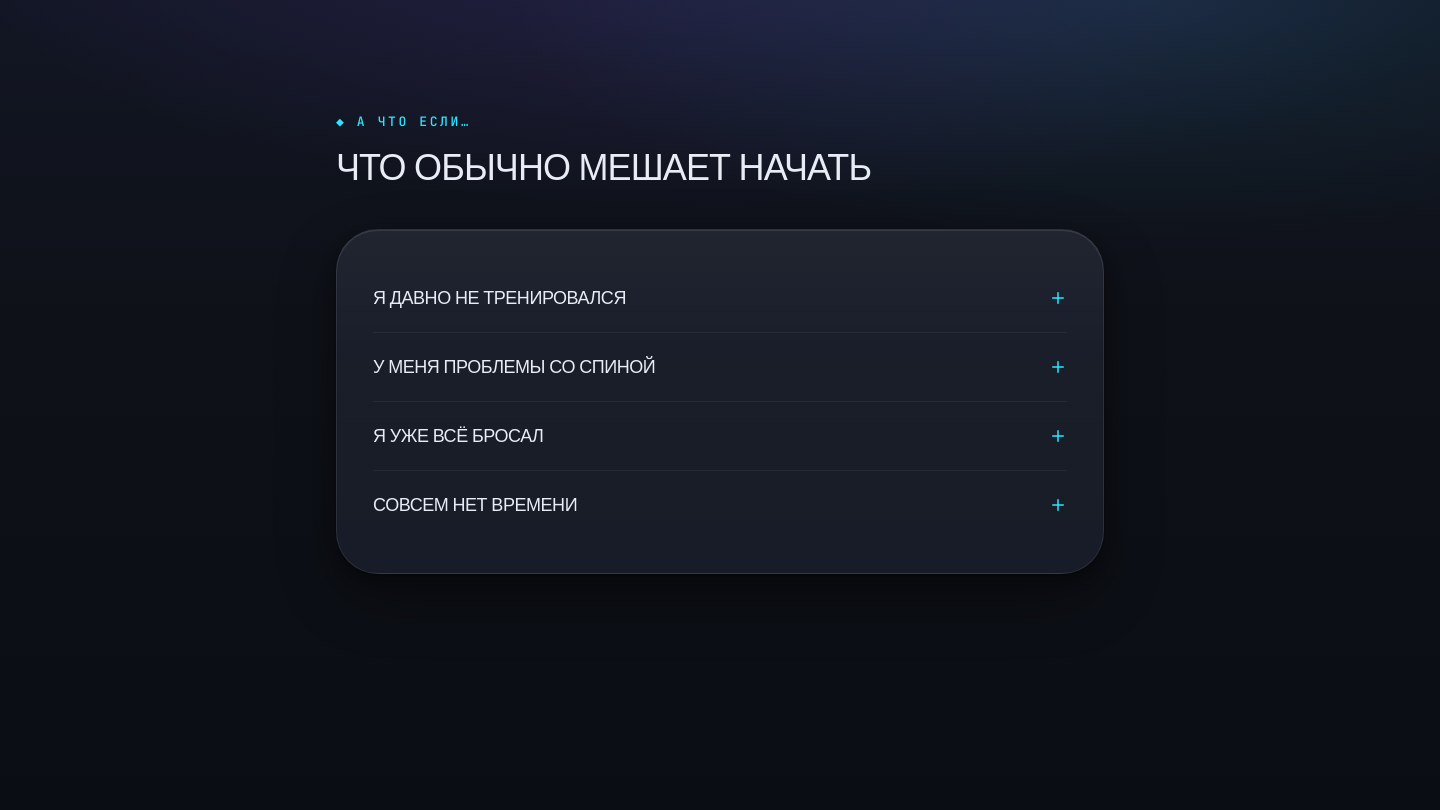
Objections accordion (§15.5) › toggles to another item, collapses the previous
Click the button "Я давно не тренировался" at (499, 298), box [373,264,1067,332]
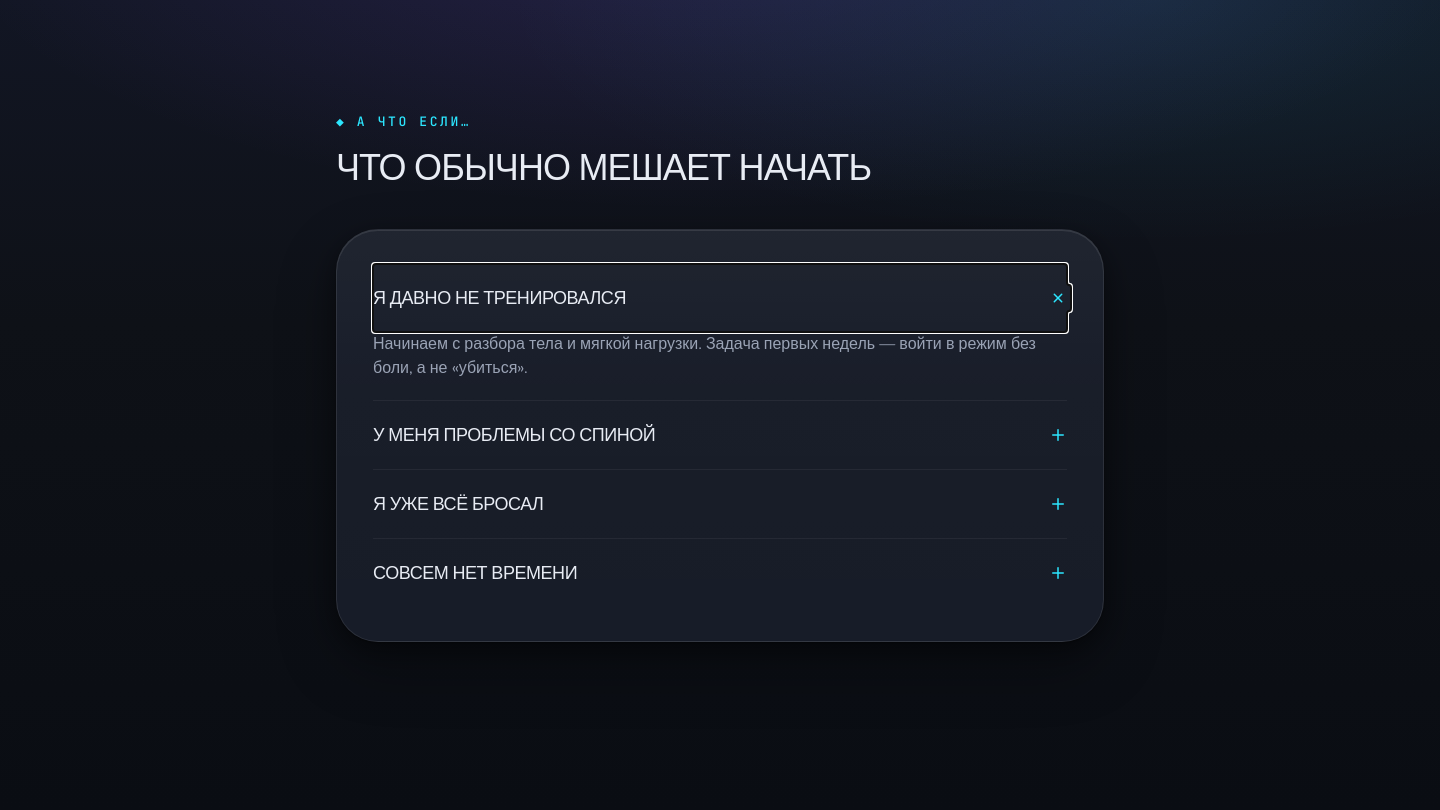
Click the button "У меня проблемы со спиной" at (514, 435), box [373,401,1067,469]
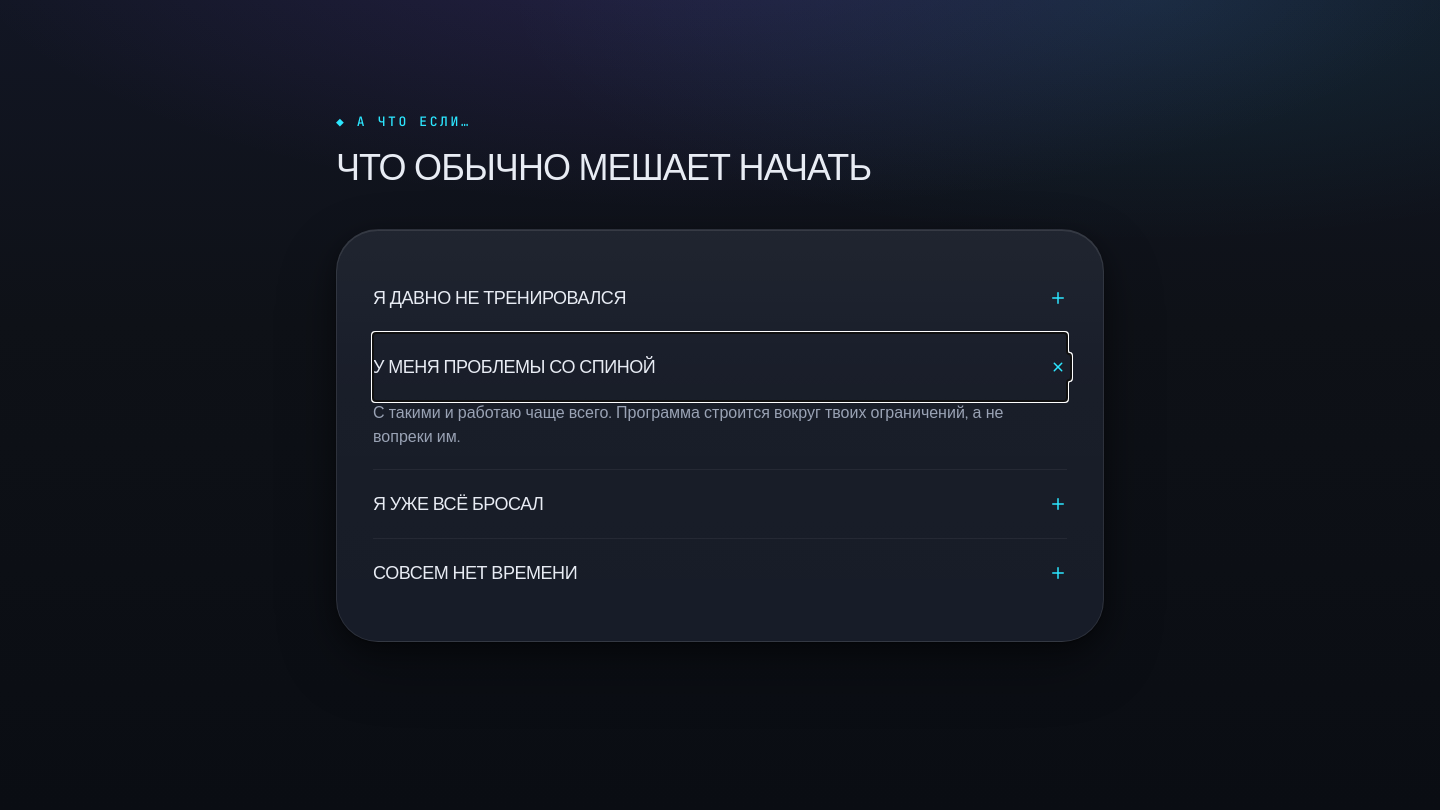
Check: the button "Я давно не тренировался" is collapsed, box [373,264,1067,332]
Check: the button "У меня проблемы со спиной" is expanded, box [373,333,1067,401]
